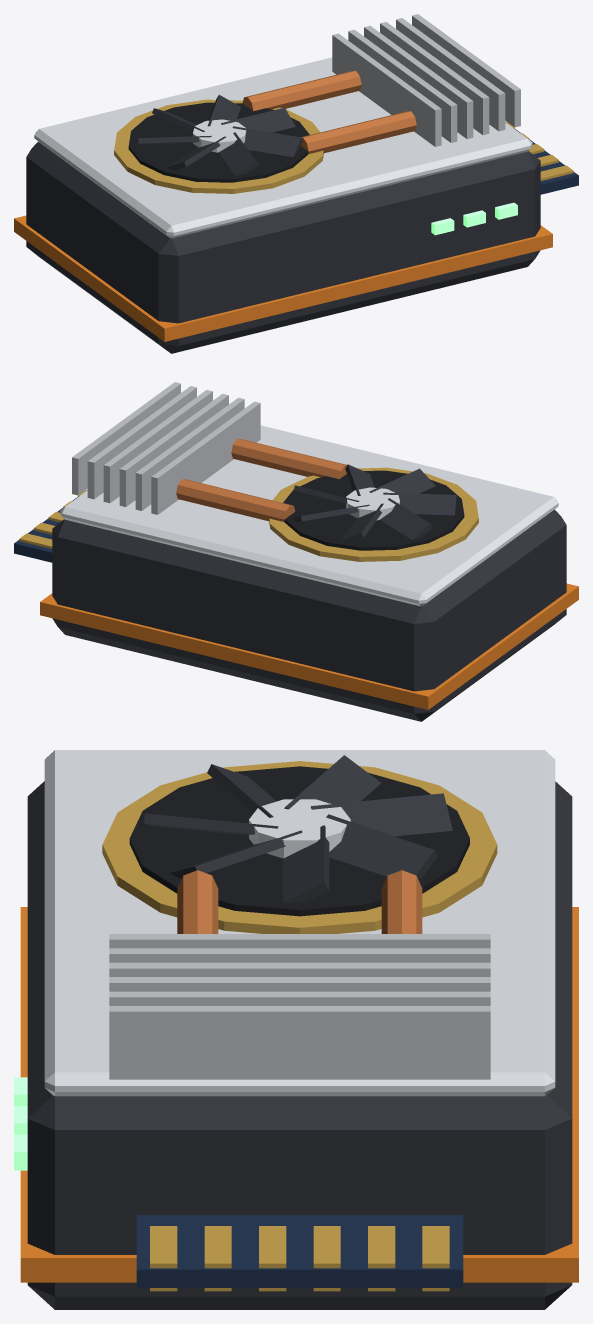
The model's file is compute_quality.glb.
The picture shows the model from 3 angles, top to bottom: view 1: azimuth 30°, elevation 25°; view 2: azimuth 150°, elevation 25°; view 3: azimuth 270°, elevation 25°; orthographic projection. The views are drawn at different scales.
Visible parts, largest first — view 1: compute_quality; view 2: compute_quality; view 3: compute_quality.
Part boxes in pixels (bbox=[...]): compute_quality: bbox=[14, 14, 578, 353]; compute_quality: bbox=[14, 382, 578, 721]; compute_quality: bbox=[14, 750, 578, 1309].
Bounding box in the file's own units: 0.28 × 0.099 × 0.166.
